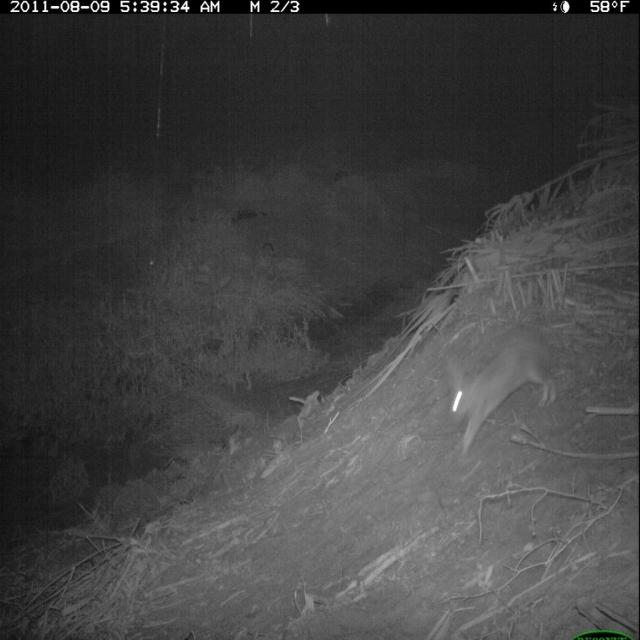rabbit: (424, 323, 572, 465)
